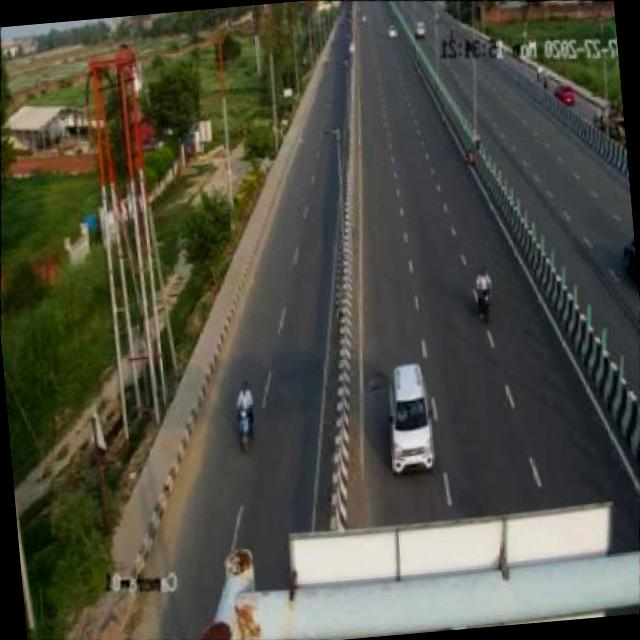car: (375, 354, 448, 480)
